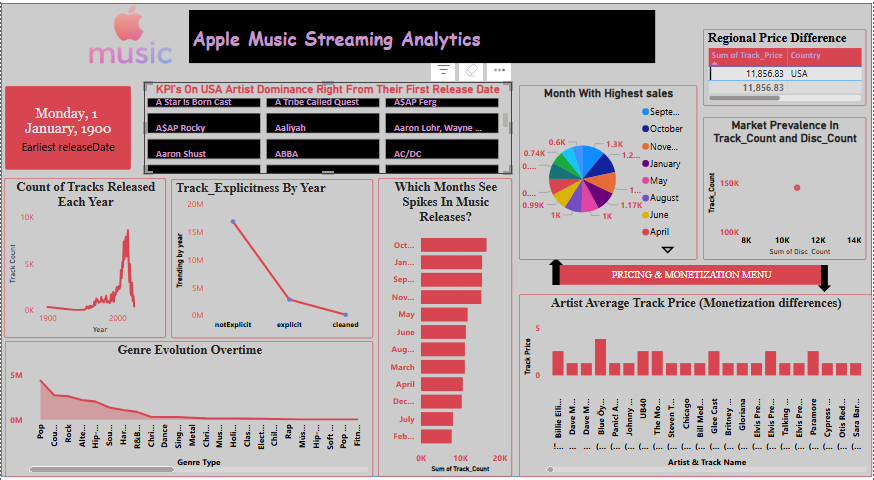

The page's visual inventory and layout, read from the dashboard file:
{"tool":"powerbi","page":{"name":"Apple Music","canvas":[1280,720],"ordinal":1},"visuals":[{"type":"shape","box":[0,10.3,1279.8,696.5],"z":0},{"type":"textbox","box":[815.5,395.3,395.3,29.4],"z":0,"group":"g1"},{"type":"card","fields":{"Values":["Min(apple music streams.releaseDate)"]},"box":[5.9,132.2,185.1,123.4],"z":1000},{"type":"shape","box":[805.2,385,20.6,39.7],"z":1000,"group":"g1"},{"type":"lineChart","title":"Track_Explicitness By Year","fields":{"Category":["apple music streams.Track_Explicitness"],"Y":["Sum(apple music streams.Year)"]},"box":[249.8,268.9,296.8,233.6],"z":2000},{"type":"shape","box":[1200.5,395.3,19.1,39.7],"z":2000,"group":"g1"},{"type":"lineChart","title":"Count of Tracks  Released Each Year","fields":{"Category":["apple music streams.Year"],"Y":["Sum(apple music streams.Track_Count)"]},"box":[4.4,267.4,238,235.1],"z":3000},{"type":"stackedAreaChart","title":"Genre Evolution Overtime","fields":{"Category":["apple music streams.Genre Type"],"Y":["Sum(apple music streams.Year)"]},"box":[5.9,506.9,540.7,199.8],"z":4000},{"type":"clusteredColumnChart","title":"Artist Average Track Price (Monetization differences)","fields":{"Category":["apple music streams.Song Name","apple music streams.Artist_Name"],"Y":["Sum(apple music streams.Track_Price)"]},"box":[761.1,437.9,518.7,268.9],"z":5000},{"type":"image","box":[30.9,5.9,299.8,101.4],"z":7000},{"type":"group","id":"g1","title":"Group 1","box":[805.2,385,414.4,50],"z":8000},{"type":"tableEx","title":"Regional Price Difference","fields":{"Values":["Sum(apple music streams.Track_Price)","apple music streams.Country"]},"box":[1031.5,48.5,239.5,113.1],"z":9000},{"type":"scatterChart","title":"Market  Prevalence In Track_Count and Disc_Count","fields":{"X":["Sum(apple music streams.Disc_Count)"],"Y":["Sum(apple music streams.Track_Count)"]},"box":[1031.5,177.8,239.5,210.1],"z":10000},{"type":"barChart","title":"\tWhich Months See Spikes In  Music Releases?","fields":{"Category":["apple music streams.Month"],"Y":["Sum(apple music streams.Track_Count)"]},"box":[554,267.4,196.9,439.3],"z":11000},{"type":"pieChart","title":"Month With Highest sales","fields":{"Category":["apple music streams.Month"],"Y":["Sum(apple music streams.Track_Price)"]},"box":[761.1,130.8,261.6,257.1],"z":12000},{"type":"advancedSlicerVisual","title":"KPI''s On USA Artist Dominance Right From Their First Release Date","fields":{"Values":["apple music streams.Artist_Name"]},"box":[210.1,126.4,540.7,135.2],"z":13000},{"type":"textbox","box":[276.2,20.6,684.7,77.9],"z":14000}]}

Visuals, with their boxes in screenshot pixels (x1, y1, x2, y2), scaled from the page's 1280x720 canvas onto the 874x480 screenshot:
shape: crop(0, 7, 873, 471)
textbox: crop(557, 264, 827, 283)
card - Min(apple music streams.releaseDate): crop(4, 88, 130, 170)
shape: crop(550, 257, 564, 283)
"Track_Explicitness By Year" lineChart: crop(171, 179, 373, 335)
shape: crop(820, 264, 833, 290)
"Count of Tracks  Released Each Year" lineChart: crop(3, 178, 166, 335)
"Genre Evolution Overtime" stackedAreaChart: crop(4, 338, 373, 471)
"Artist Average Track Price (Monetization differences)" clusteredColumnChart: crop(520, 292, 873, 471)
image: crop(21, 4, 226, 72)
"Group 1" group: crop(550, 257, 833, 290)
"Regional Price Difference" tableEx: crop(704, 32, 868, 108)
"Market  Prevalence In Track_Count and Disc_Count" scatterChart: crop(704, 119, 868, 259)
"	Which Months See Spikes In  Music Releases?" barChart: crop(378, 178, 513, 471)
"Month With Highest sales" pieChart: crop(520, 87, 698, 259)
"KPI''s On USA Artist Dominance Right From Their First Release Date" advancedSlicerVisual: crop(143, 84, 513, 174)
textbox: crop(189, 14, 656, 66)
